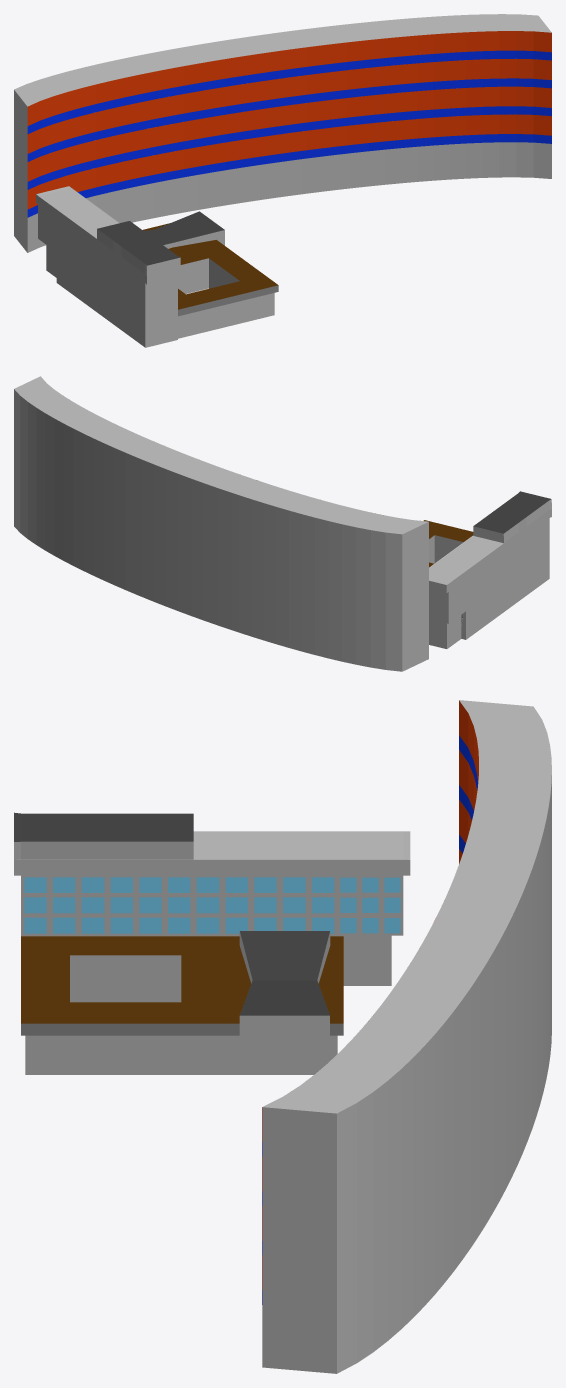
File: campus.gltf
The picture shows the model from 3 angles, top to bottom: view 1: azimuth 30°, elevation 25°; view 2: azimuth 150°, elevation 25°; view 3: azimuth 270°, elevation 25°; orthographic projection. The views are drawn at different scales.
Visible parts, largest first — view 1: droit; view 2: droit; view 3: droit.
Boxes of the visible parts, left/top/right/bottom form: droit: left=14, top=14, right=551, bottom=347; droit: left=14, top=376, right=551, bottom=671; droit: left=14, top=700, right=551, bottom=1373.
Bounding box in the file's own units: 0.423 × 0.1255 × 0.2297.
Materials: 9 (9 with a texture image).
